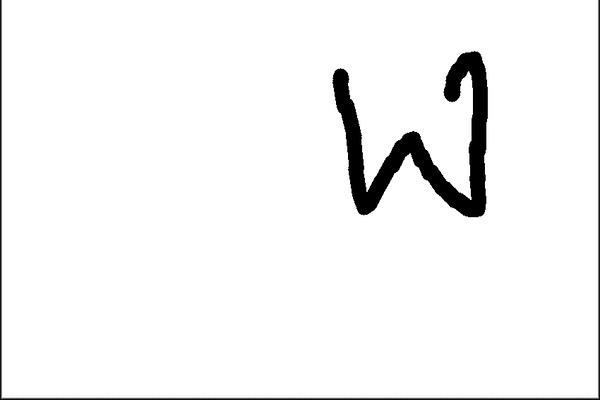w: (305, 25, 519, 236)
